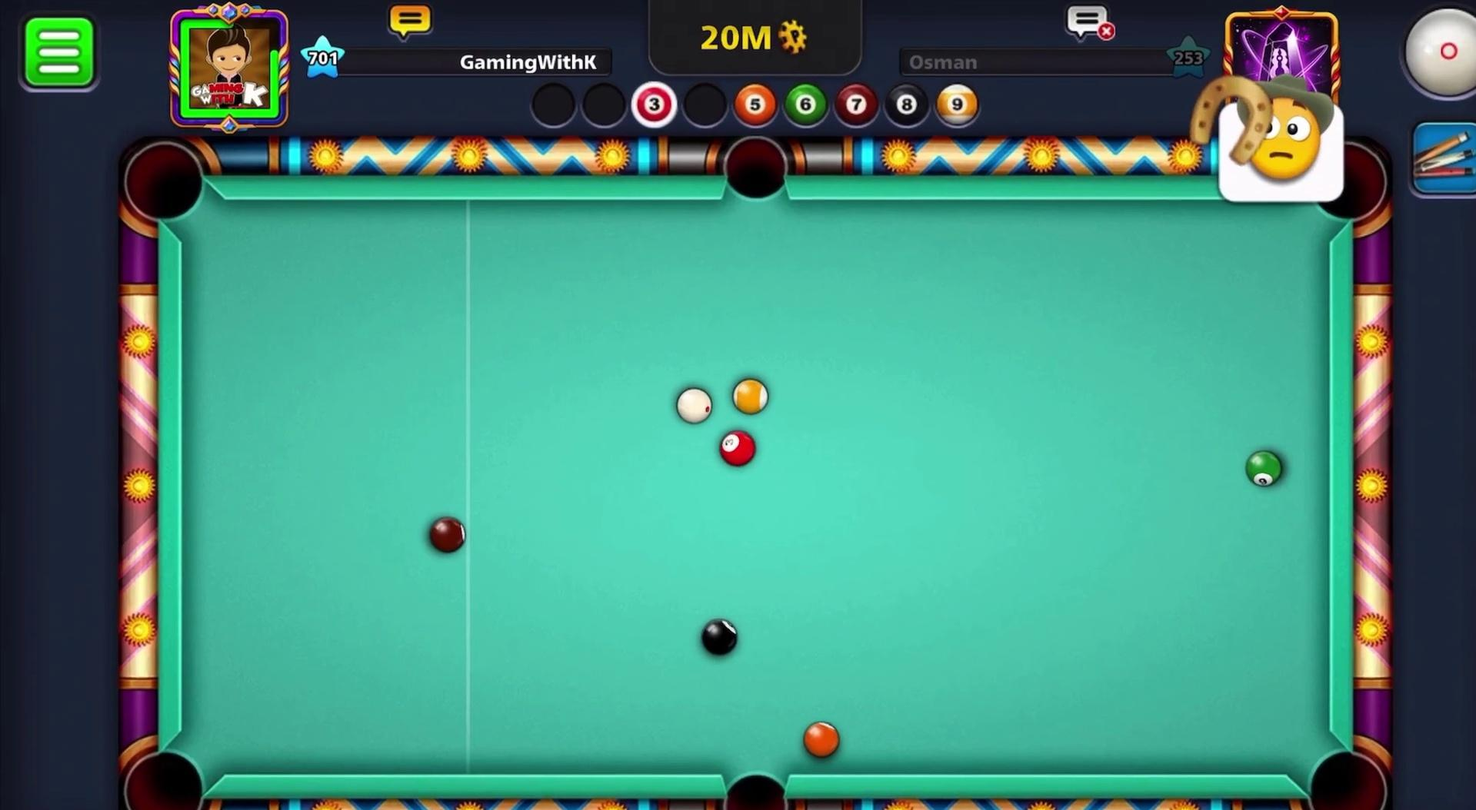Ball: (690, 614, 748, 663), (420, 511, 473, 559), (1244, 443, 1285, 495), (713, 425, 760, 470), (795, 718, 845, 759), (729, 373, 771, 417)
Hole: (109, 131, 222, 233), (1320, 134, 1401, 237), (1291, 731, 1395, 809), (712, 126, 797, 210), (117, 742, 212, 809), (706, 757, 798, 809)
Play_Area: (181, 198, 1331, 772)
Spin: (1387, 1, 1475, 116)
White: (668, 380, 716, 426)
